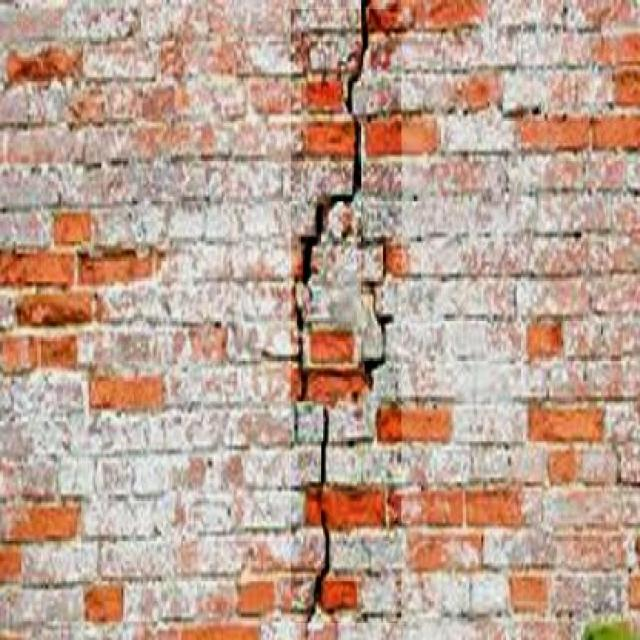Crack: (276, 0, 391, 636)
